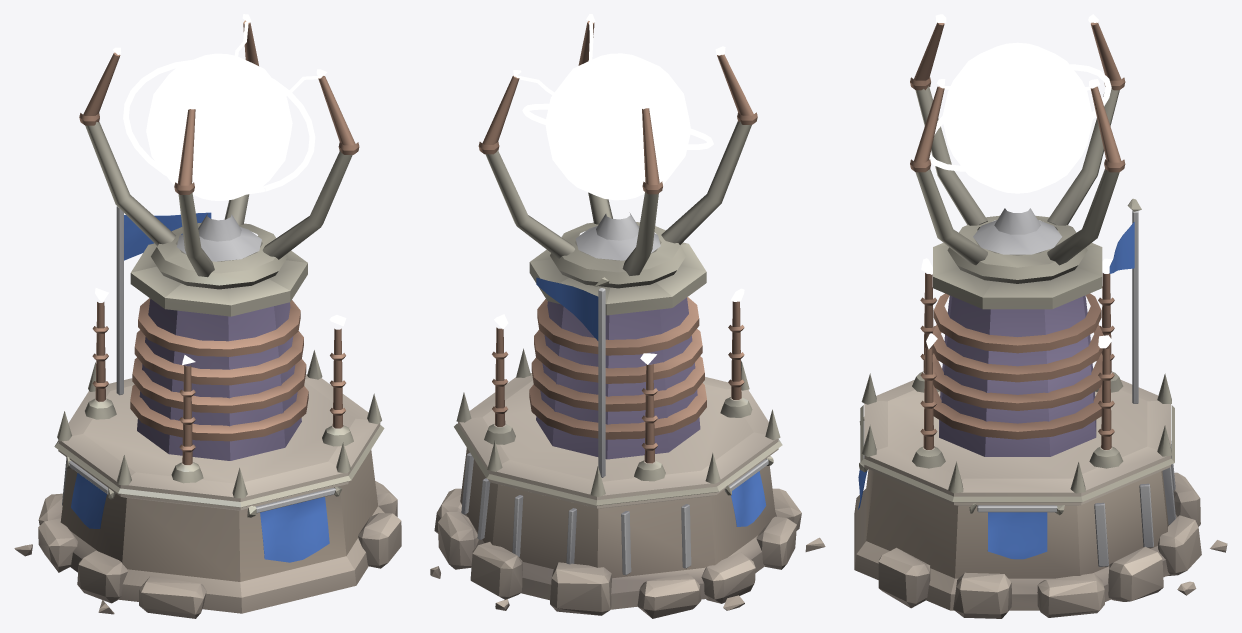
Rendered from spark_2_9.glb.
3 views of the same model, side by side, from view 1: azimuth 30°, elevation 25°; view 2: azimuth 150°, elevation 25°; view 3: azimuth 270°, elevation 25° (orthographic). The views are drawn at different scales.
Parts seen in each view (by area): view 1: Tower, Turret; view 2: Tower, Turret; view 3: Tower, Turret.
Boxes of the visible parts, x1,y1,x2,y2 form: Tower: (14, 206, 401, 618); Turret: (79, 14, 359, 289); Tower: (430, 235, 825, 618); Turret: (478, 14, 757, 288); Tower: (854, 198, 1227, 618); Turret: (910, 14, 1125, 283).
Bounding box in the file's own units: 3.56 × 5.2 × 3.51.
